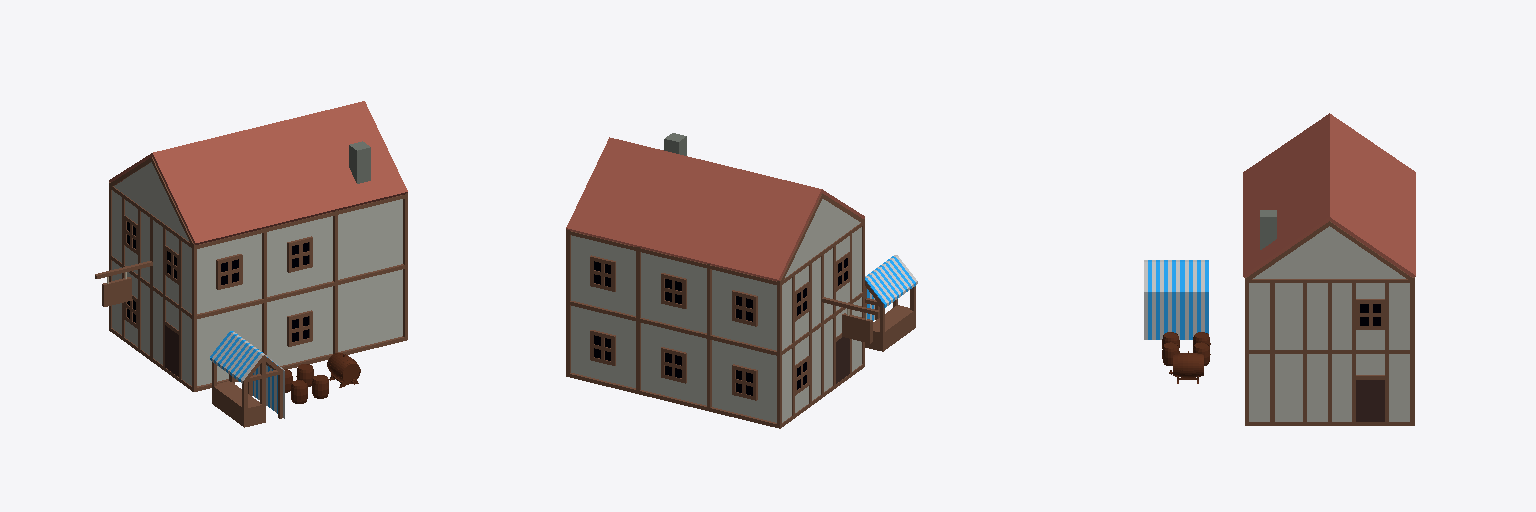
The model's file is timberframedvintner_white_blue.obj.
3 views of the same model, side by side, from view 1: azimuth 30°, elevation 25°; view 2: azimuth 150°, elevation 25°; view 3: azimuth 270°, elevation 25° (orthographic).
Visible parts, largest first — view 1: Cube.005, Cube.007_Cube.011, Cube.011_Cube.015, Cube.018_Cube.016, Cube.056_Cube.081, barrel_Untitled, Cube.001_Cube.058, Cube.013_Cube.080, Cube.006_Cube.010, Cube.026_Cube.019, Cube.073_Cube.078, Cube.012_Cube.017 (+6 smaller); view 2: Cube.005, Cube.007_Cube.011, Cube.023_Cube.026, Cube.022_Cube.025, Cube.021_Cube.024, Cube.015_Cube.020, Cube.019_Cube.022, Cube.017_Cube.021, Cube.014_Cube.018, Cube.008, Cube.020_Cube.023, Cube.073_Cube.078 (+6 smaller); view 3: Cube.005, Cube.007_Cube.011, Cube.147_Cube.153, Cube.003, Cube.033, barrel_Untitled, Cube.027, Cube.047_Cube.049, Cube.031, Cube.006_Cube.010, Cube.016_Cube.013, Cube.012_Cube.017 (+5 smaller).
Boxes of the visible parts, box(x1,y1,x2,y2) form: Cube.005: box(112, 162, 402, 385); Cube.007_Cube.011: box(109, 101, 407, 244); Cube.011_Cube.015: box(195, 264, 406, 319); Cube.018_Cube.016: box(195, 195, 406, 249); Cube.056_Cube.081: box(216, 254, 242, 289); barrel_Untitled: box(327, 353, 360, 387); Cube.001_Cube.058: box(287, 310, 312, 346); Cube.013_Cube.080: box(287, 236, 312, 272); Cube.006_Cube.010: box(349, 141, 370, 183); Cube.026_Cube.019: box(192, 243, 196, 391); Cube.073_Cube.078: box(102, 277, 131, 306); Cube.012_Cube.017: box(403, 193, 407, 339); Cube.005: box(571, 199, 861, 422); Cube.007_Cube.011: box(566, 137, 864, 280); Cube.023_Cube.026: box(567, 373, 776, 427); Cube.022_Cube.025: box(567, 301, 777, 355); Cube.021_Cube.024: box(570, 231, 776, 284); Cube.015_Cube.020: box(732, 290, 757, 326); Cube.019_Cube.022: box(661, 347, 686, 383); Cube.017_Cube.021: box(590, 330, 615, 365); Cube.014_Cube.018: box(661, 273, 686, 308); Cube.008: box(590, 255, 615, 291); Cube.020_Cube.023: box(732, 364, 757, 400); Cube.073_Cube.078: box(842, 313, 872, 343); Cube.005: box(1249, 226, 1409, 421); Cube.007_Cube.011: box(1243, 113, 1415, 277); Cube.147_Cube.153: box(1144, 292, 1208, 339); Cube.003: box(1356, 380, 1384, 421); Cube.033: box(1356, 299, 1384, 329); barrel_Untitled: box(1169, 351, 1203, 383); Cube.027: box(1410, 277, 1414, 425); Cube.047_Cube.049: box(1270, 279, 1274, 423); Cube.031: box(1249, 422, 1410, 425); Cube.006_Cube.010: box(1260, 210, 1276, 249); Cube.016_Cube.013: box(1248, 350, 1409, 353); Cube.012_Cube.017: box(1245, 277, 1248, 425).
Bounding box in the file's own units: 15.3 × 11.25 × 13.34.